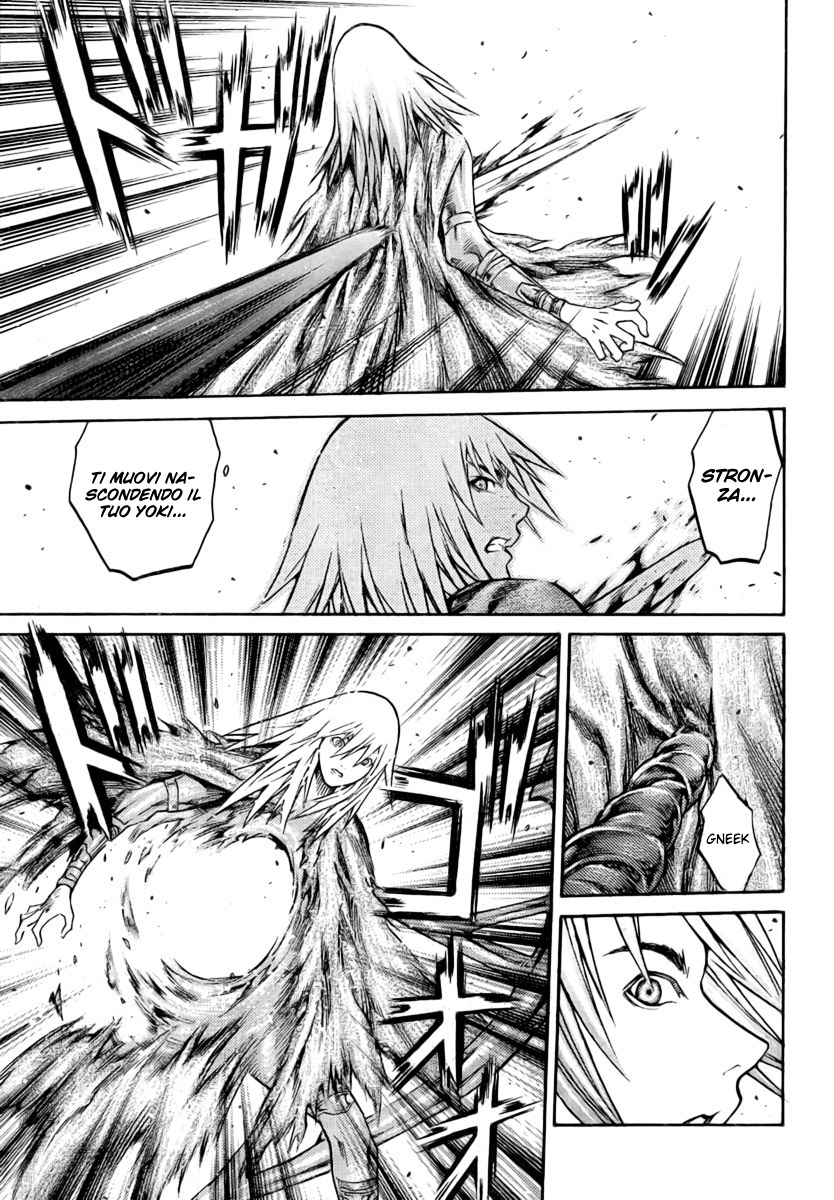Baloon: (66, 414, 214, 582), (686, 411, 783, 563), (694, 776, 763, 896)
Vignetta: (3, 1, 790, 403), (1, 633, 556, 1199), (1, 403, 786, 604), (561, 636, 783, 900), (556, 914, 781, 1120)
